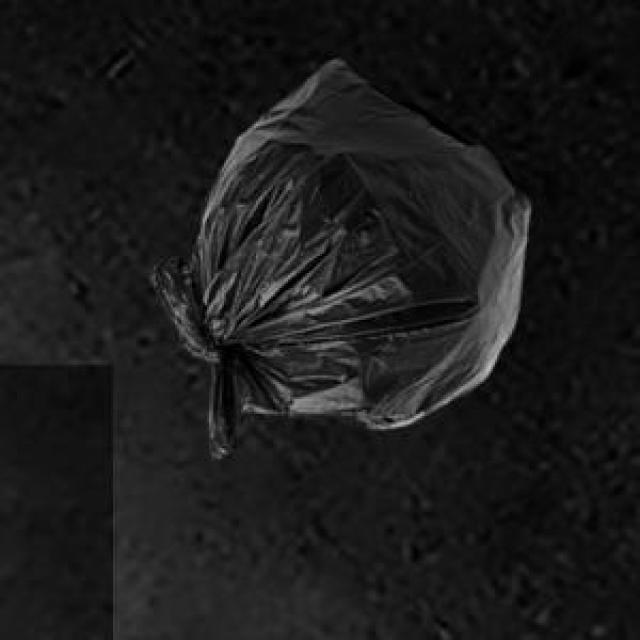miscellaneous trash: (147, 56, 525, 454)
